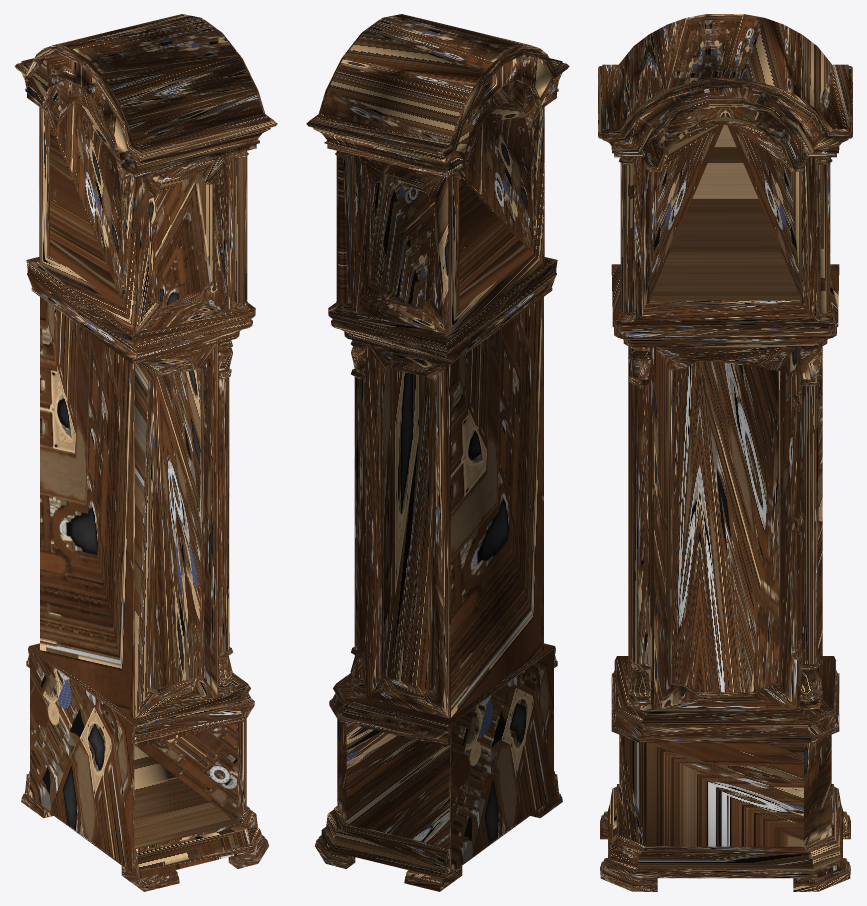
The model's file is vintage_grandfather_clock_01.glb.
3 renders of one model, left to right at view 1: azimuth 30°, elevation 25°; view 2: azimuth 150°, elevation 25°; view 3: azimuth 270°, elevation 25°, orthographic.
Parts seen in each view (by area): view 1: vintage_grandfather_clock_01_Body; view 2: vintage_grandfather_clock_01_Body; view 3: vintage_grandfather_clock_01_Body.
Part boxes in pixels (x1,y1,x2,y2): vintage_grandfather_clock_01_Body: (14,14,277,891); vintage_grandfather_clock_01_Body: (306,14,569,891); vintage_grandfather_clock_01_Body: (598,14,852,891).
Bounding box in the file's own units: 0.4265 × 2.19 × 0.6257.
2 materials, 2 textured.
